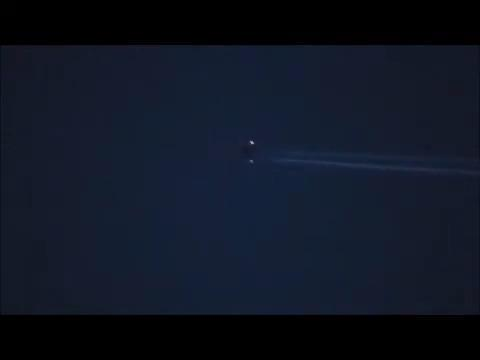Plane: (210, 130, 475, 190)
